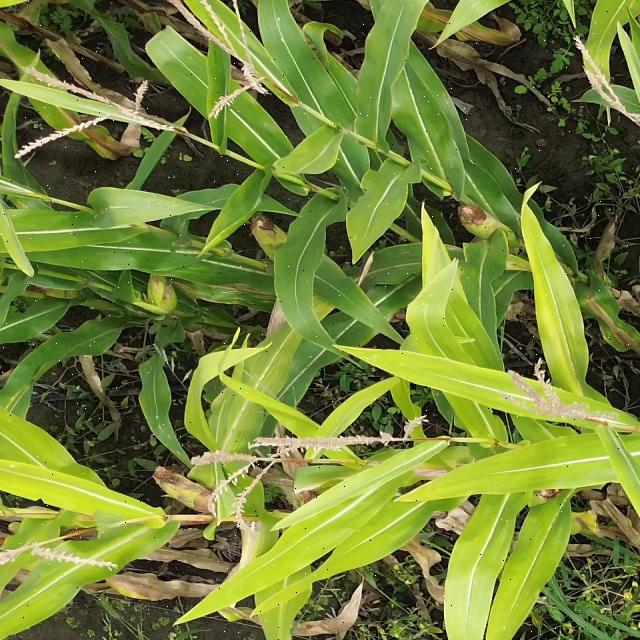gray-leaf-spot: (213, 284, 283, 314), (368, 247, 419, 283)
northern-leaf-blight: (27, 76, 113, 144), (578, 284, 639, 346)
southern-leaf-blight: (586, 3, 622, 68), (358, 347, 422, 376), (147, 411, 185, 456)
